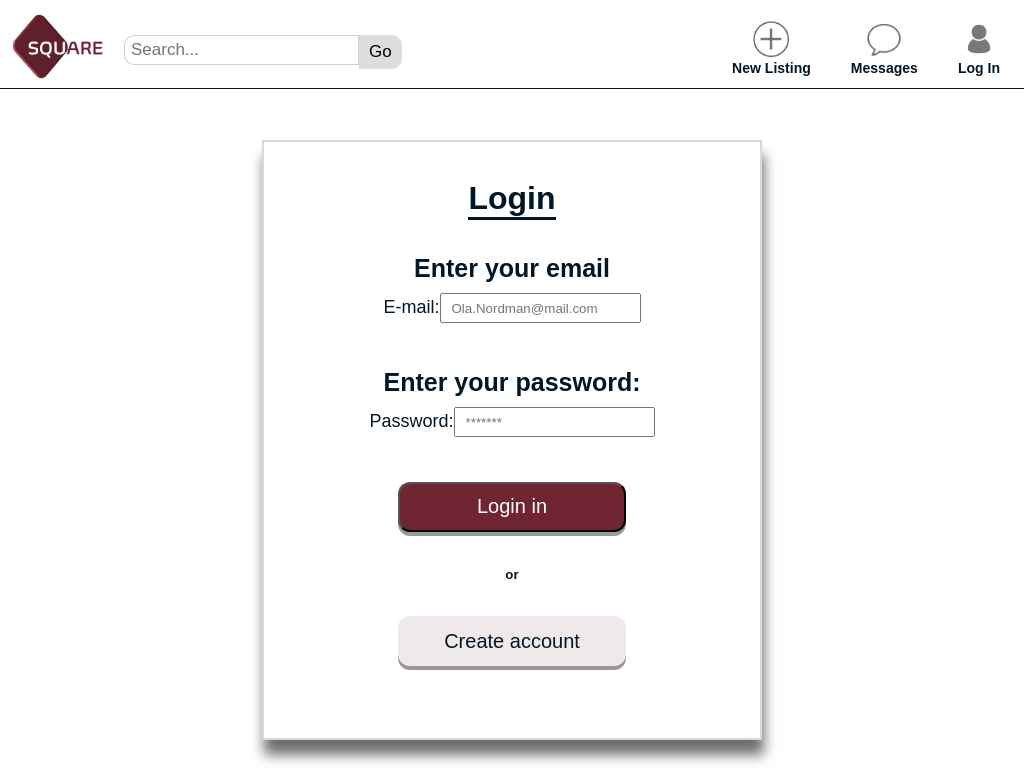
Test: e2e test for LoginPage › Display an error message when logg in is tried when all fileds not is displayed
Note: Enter invalid email and password
Type "invaliduser@example.com" into the element with test id "eMail" showing "E-mail:". click: (513, 308)
box: [374,283,651,333]
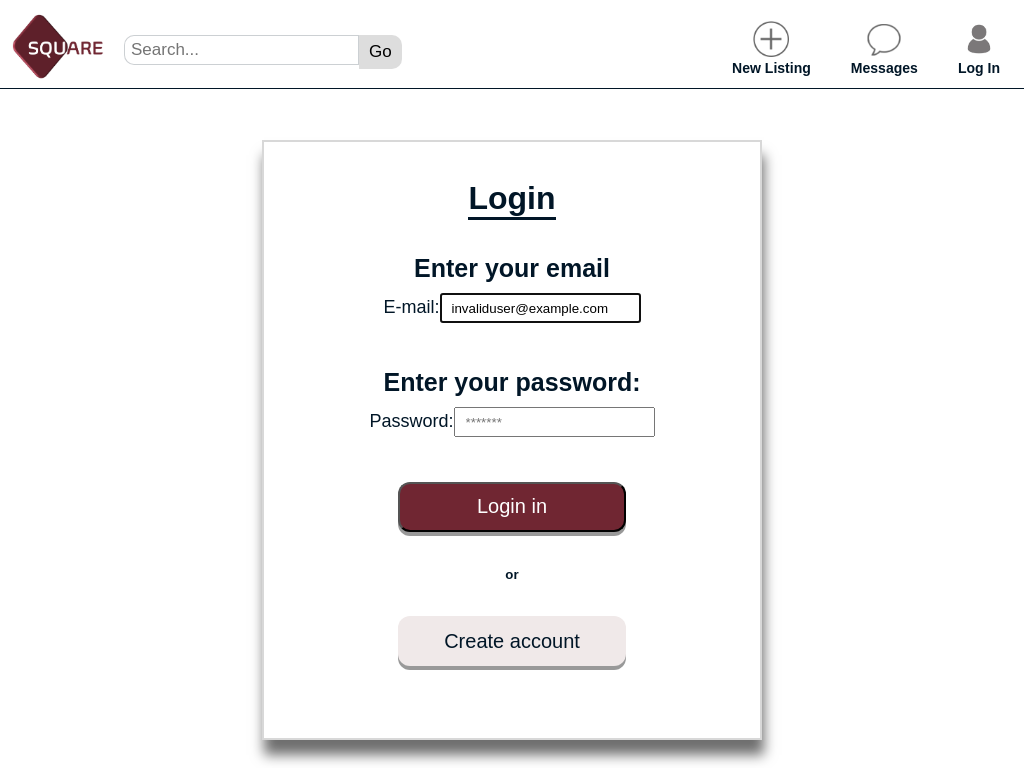
Note: Click submit button
Click the button with test id "submitBtn". click: (512, 507)
box: [398,482,626,532]
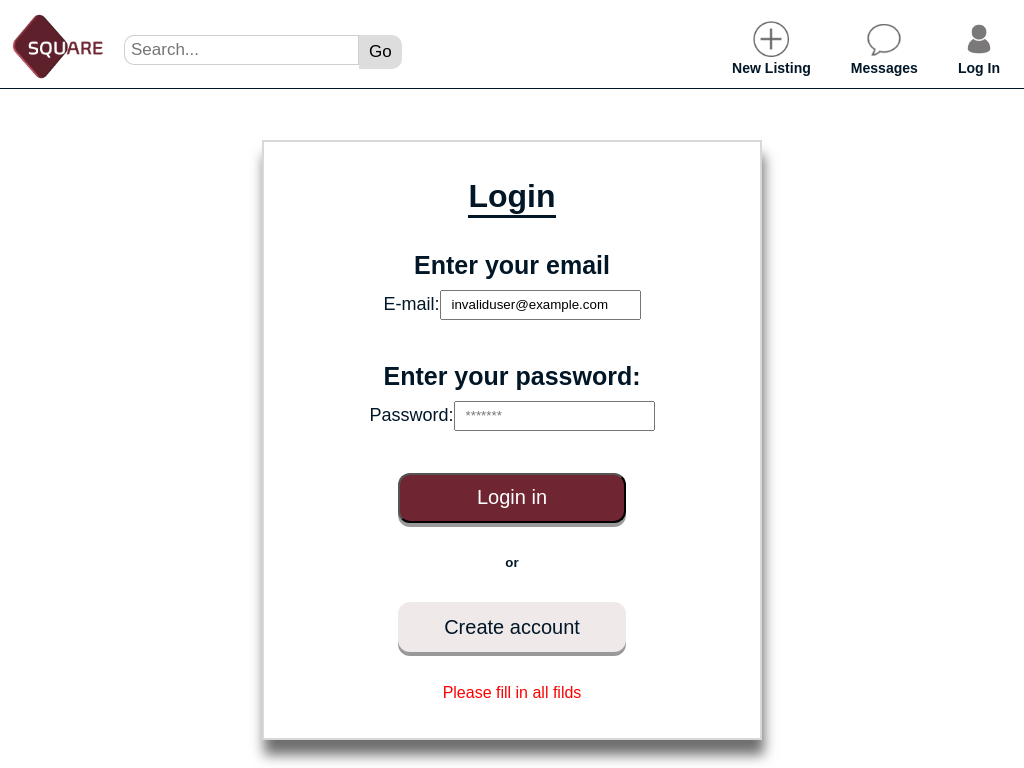
Check: the text with test id "errorMessage" reads "Please fill in all filds", box [443,684,582,701]
